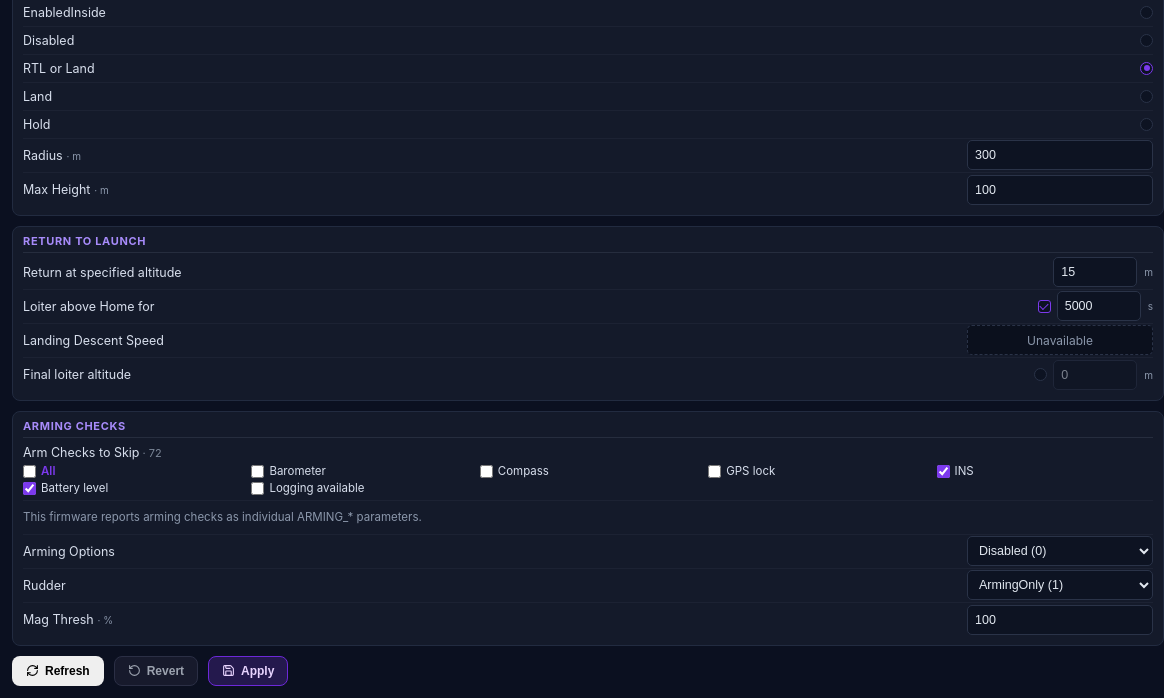
Scenario: SetupSafety — compact configuration form layout › adds an All select-all to the arming checks without inventing any check
The image size is (1164, 698).
(page scrolled)
Step 1. Click the checkbox labelled "All" → (30, 471), box [23,465,36,478]
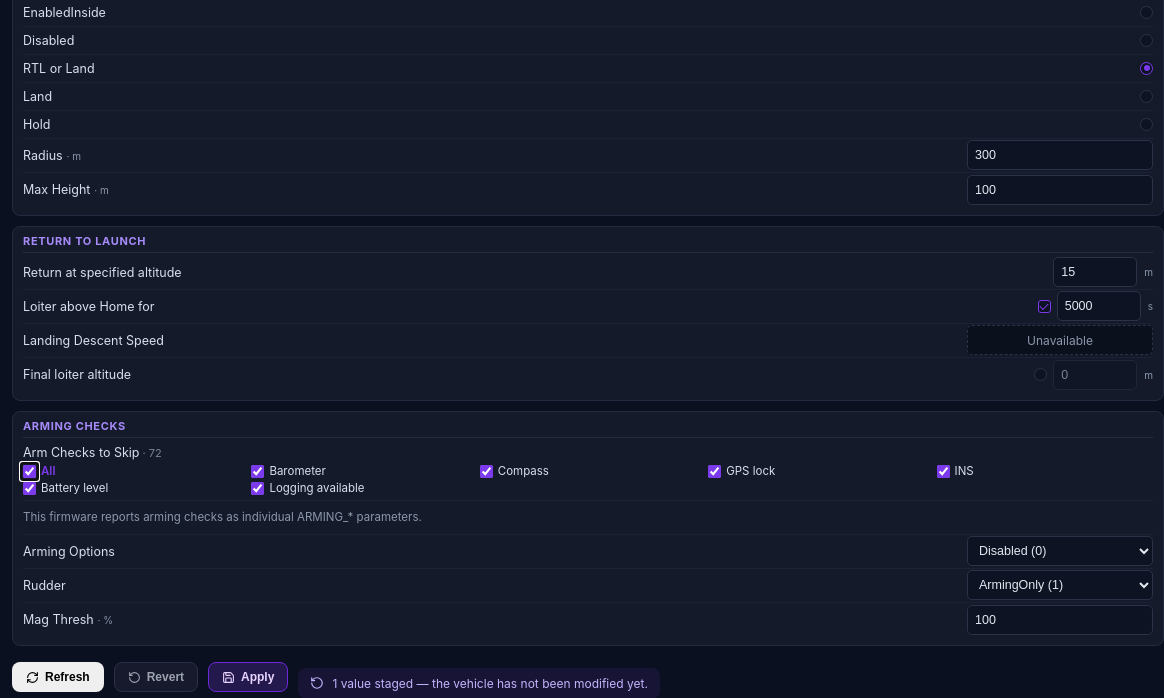
Expected: the checkbox with test id "safety-arming-arming_skipchk-bit-0" is checked, [251,465,264,478]
Note: Turning it back off clears every bit.
Step 2. Click the checkbox labelled "All" → (30, 471), box [23,465,36,478]
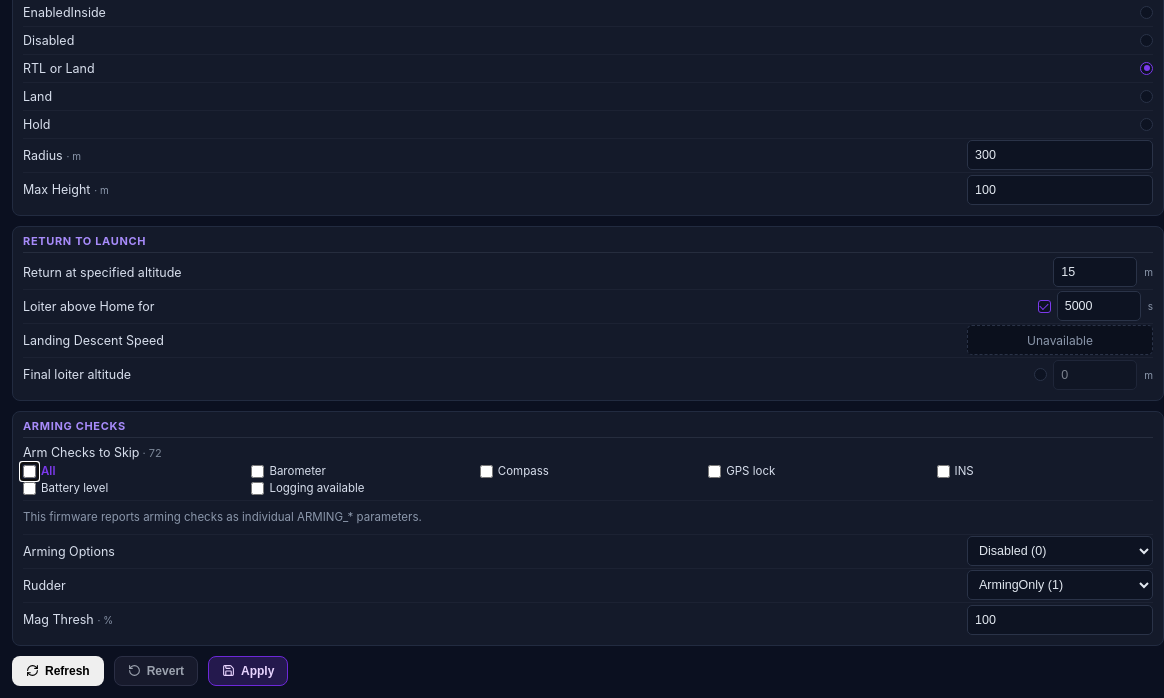
Expected: the checkbox with test id "safety-arming-arming_skipchk-bit-0" is not checked, [251,465,264,478]
